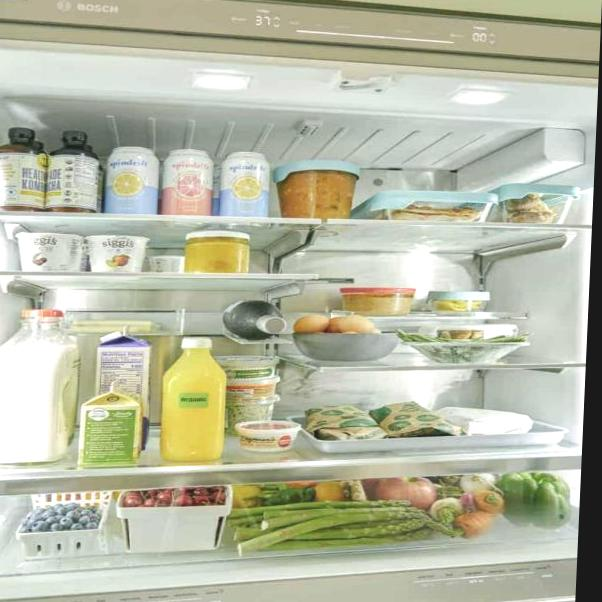apple: (377, 477, 436, 506)
asparagus: (231, 506, 438, 544)
blueberries: (32, 506, 96, 530)
eggs: (337, 315, 376, 333), (295, 315, 331, 333)
green bell pepper: (497, 473, 573, 524)
milk: (0, 309, 82, 464), (98, 327, 153, 397)
yoghurt: (15, 234, 84, 271), (84, 235, 150, 273)
